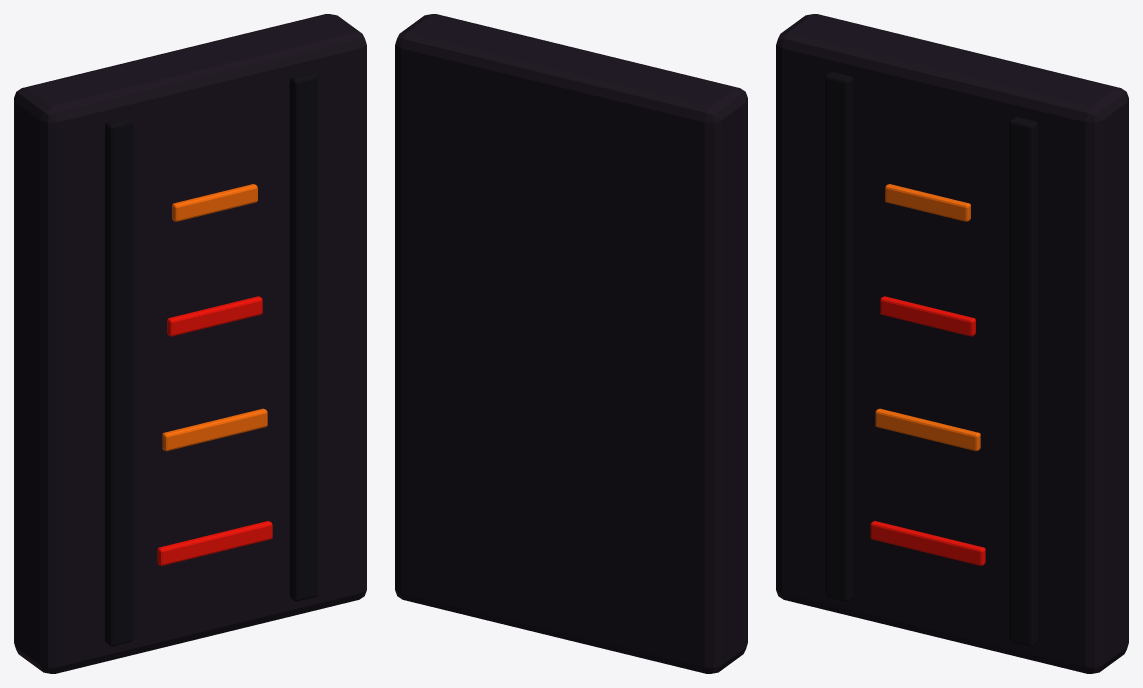
Rendered from lava_castle_door.obj.
3 views of the same model, side by side, from view 1: azimuth 30°, elevation 25°; view 2: azimuth 150°, elevation 25°; view 3: azimuth 330°, elevation 25° (orthographic).
Parts seen in each view (by area): view 1: Animated_Castle_Door, Door_Metal_Rib_-1, Door_Metal_Rib_1, Door_Lava_Rune_0, Door_Lava_Rune_1, Door_Lava_Rune_2, Door_Lava_Rune_3; view 2: Animated_Castle_Door; view 3: Animated_Castle_Door, Door_Metal_Rib_1, Door_Metal_Rib_-1, Door_Lava_Rune_0, Door_Lava_Rune_1, Door_Lava_Rune_2, Door_Lava_Rune_3.
Boxes of the visible parts, left/top/right/bottom form: Animated_Castle_Door: left=14, top=14, right=366, bottom=673; Door_Metal_Rib_-1: left=105, top=117, right=133, bottom=646; Door_Metal_Rib_1: left=289, top=72, right=317, bottom=601; Door_Lava_Rune_0: left=157, top=521, right=272, bottom=565; Door_Lava_Rune_1: left=162, top=408, right=267, bottom=451; Door_Lava_Rune_2: left=167, top=296, right=262, bottom=336; Door_Lava_Rune_3: left=172, top=184, right=257, bottom=221; Animated_Castle_Door: left=395, top=14, right=747, bottom=673; Animated_Castle_Door: left=776, top=14, right=1128, bottom=673; Door_Metal_Rib_1: left=1009, top=117, right=1037, bottom=646; Door_Metal_Rib_-1: left=825, top=72, right=853, bottom=601; Door_Lava_Rune_0: left=870, top=521, right=985, bottom=565; Door_Lava_Rune_1: left=875, top=408, right=980, bottom=451; Door_Lava_Rune_2: left=880, top=296, right=975, bottom=336; Door_Lava_Rune_3: left=885, top=184, right=970, bottom=221.
Bounding box in the file's own units: 30 × 50 × 7.25.
